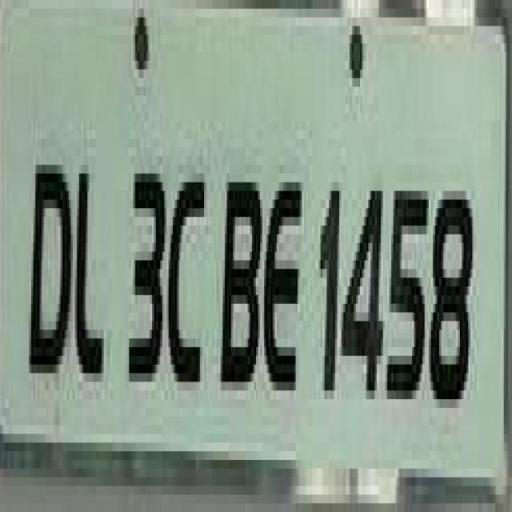number plate: (0, 0, 485, 512)
